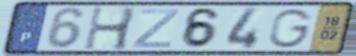4: (224, 5, 262, 51)
6: (177, 6, 225, 50), (43, 5, 88, 51)
G: (267, 8, 315, 50)
H: (81, 4, 140, 52)
Z: (130, 8, 182, 50)
